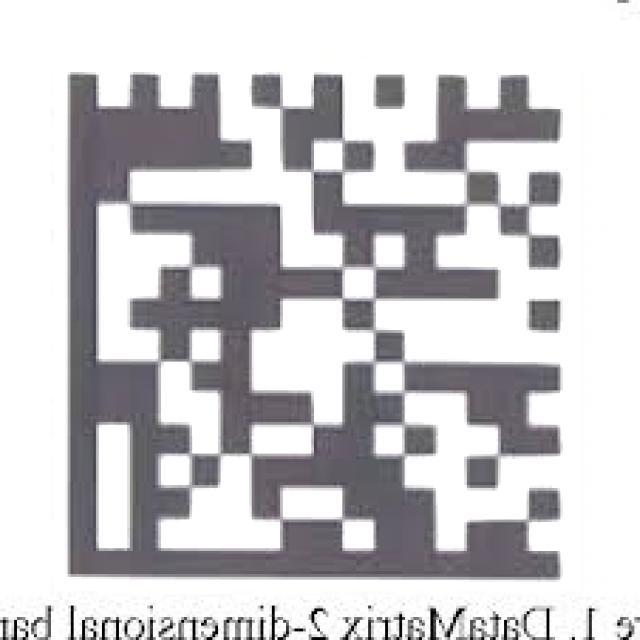Data-Matrix: (54, 60, 580, 591)
